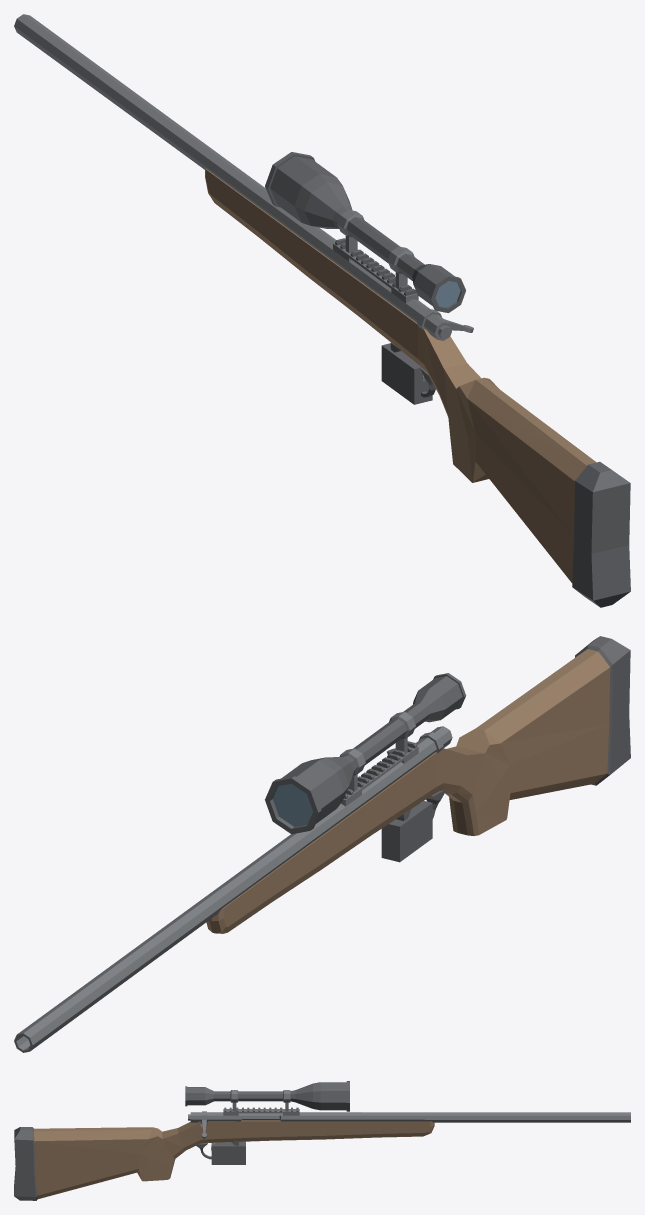
File: hunt_1.glb
3 views of the same model, one above another, from view 1: azimuth 30°, elevation 25°; view 2: azimuth 150°, elevation 25°; view 3: azimuth 270°, elevation 25° (orthographic). The views are drawn at different scales.
Parts seen in each view (by area): view 1: body, mag; view 2: body, mag; view 3: body, mag.
Boxes of the visible parts, x1=… form: body: x1=14, y1=14, x2=630, y2=607; mag: x1=381, y1=343, x2=432, y2=404; body: x1=14, y1=636, x2=630, y2=1052; mag: x1=381, y1=801, x2=432, y2=862; body: x1=14, y1=1081, x2=630, y2=1200; mag: x1=211, y1=1141, x2=245, y2=1164.
Size of the model in its own units: 0.078 by 0.2399 by 1.14.
